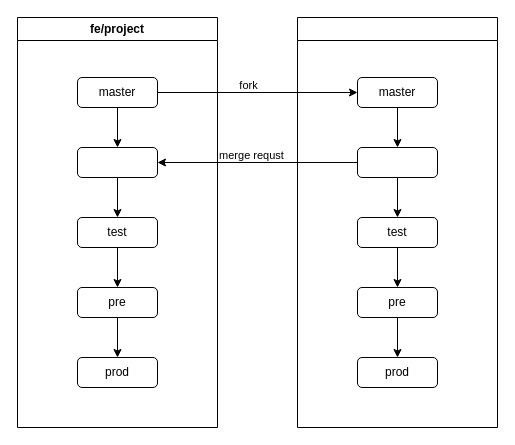
This 515x445 diagram has some shape labels left out. The box of each missing label's shape, as (x1, y1, x2, y2) in pixels:
dev: (76, 146, 158, 178)
feat-xxx: (356, 146, 438, 178)
user/project: (296, 16, 498, 428)
